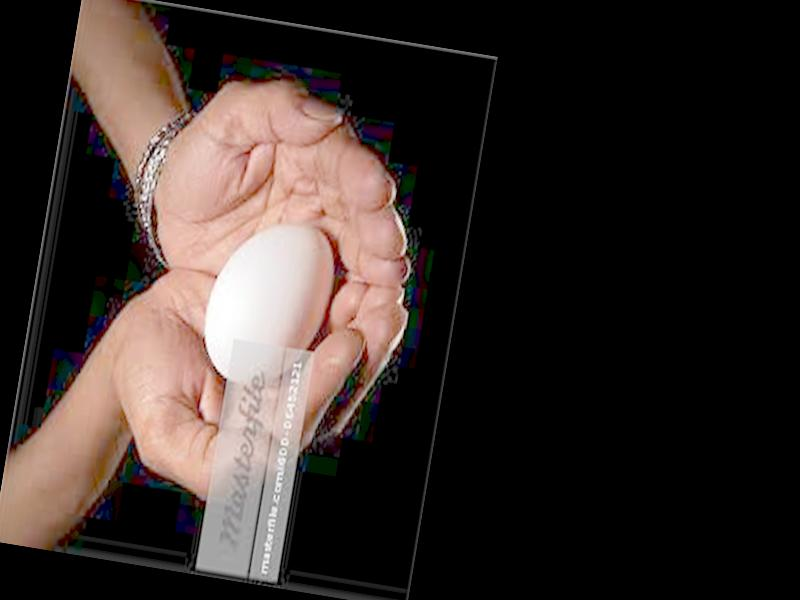Eggs: (195, 210, 342, 394)
